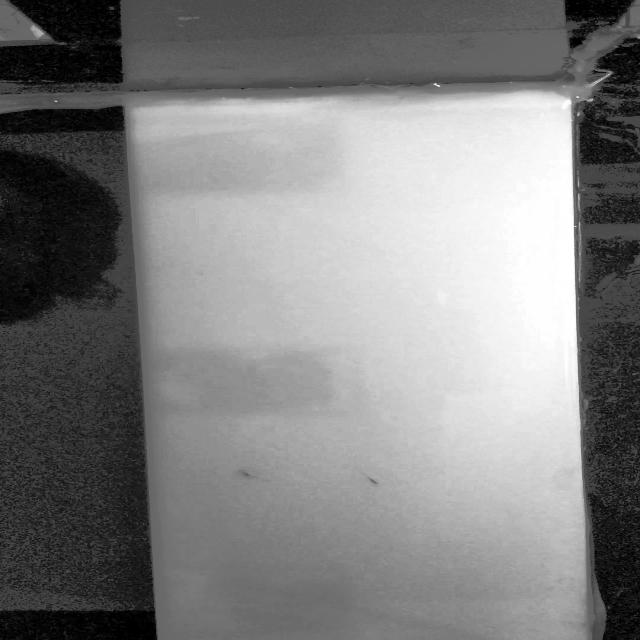shrimp: (237, 468, 273, 482), (355, 472, 381, 486)
